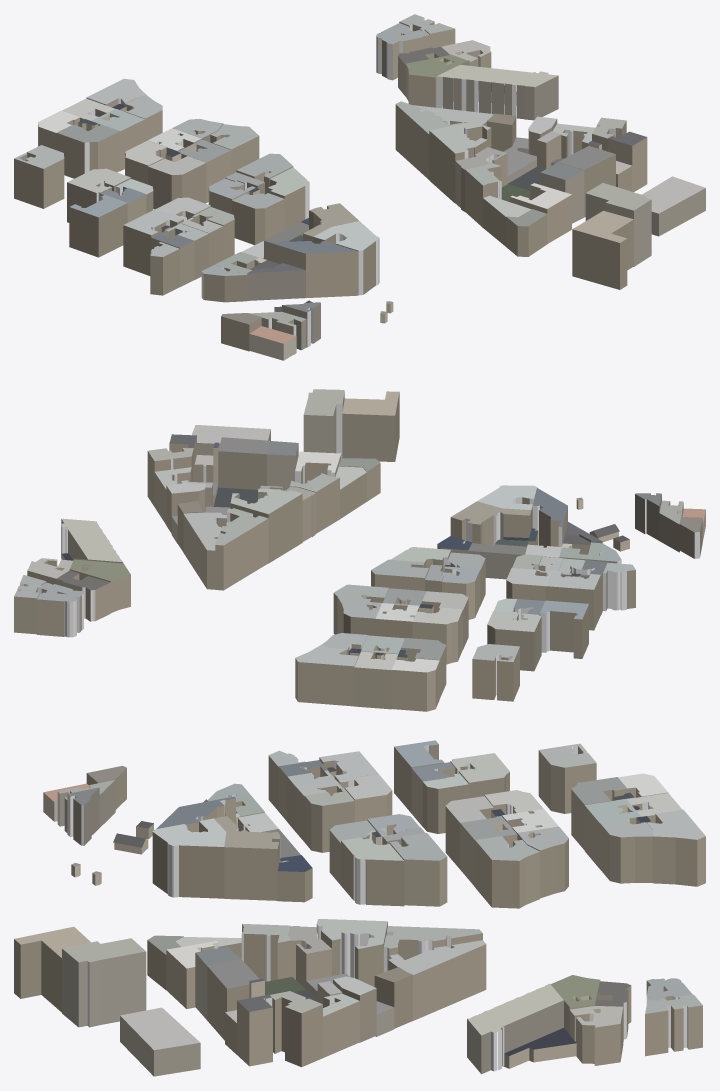
The picture shows the model from 3 angles, top to bottom: view 1: azimuth 30°, elevation 25°; view 2: azimuth 150°, elevation 25°; view 3: azimuth 270°, elevation 25°; orthographic projection. The views are drawn at different scales.
Parts seen in each view (by area): view 1: tuile; view 2: tuile; view 3: tuile.
Boxes of the visible parts, x1,y1,x2,y2 form: tuile: (14,14,705,360); tuile: (14,389,705,711); tuile: (14,740,705,1076).
Size of the model in its own units: 277 by 30.71 by 280.
